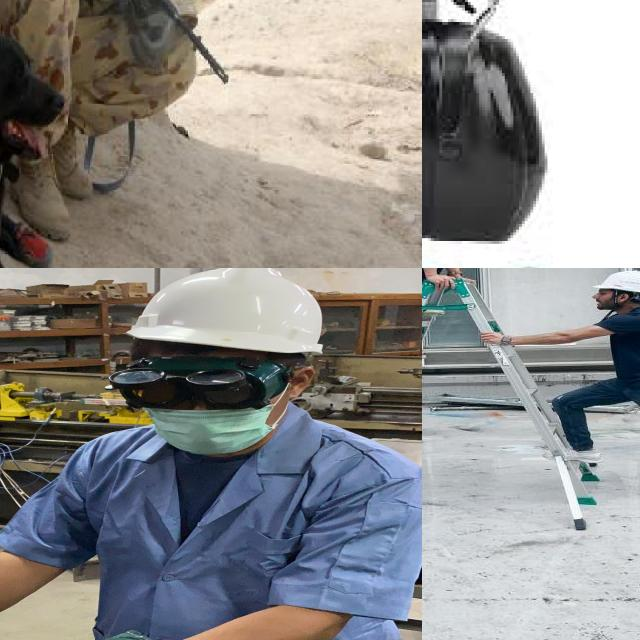Ear-protection: (422, 10, 547, 243)
No_Ear-Protection: (290, 366, 317, 399)
face_mask: (143, 404, 274, 456)
face_nomask: (590, 286, 609, 309)
glasses: (109, 357, 292, 409)
hand_noglove: (478, 326, 510, 346), (425, 270, 453, 292)
head_helmet: (127, 268, 323, 353), (591, 268, 640, 296)
person: (0, 0, 200, 244), (542, 268, 640, 503), (422, 268, 524, 369)
shoes: (7, 136, 76, 247), (542, 439, 605, 465)
